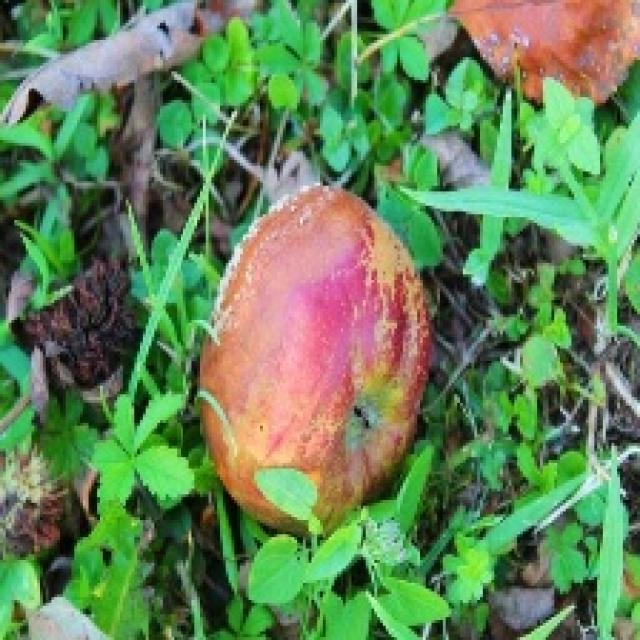rotten_apple: (205, 188, 426, 520), (456, 2, 640, 100)
